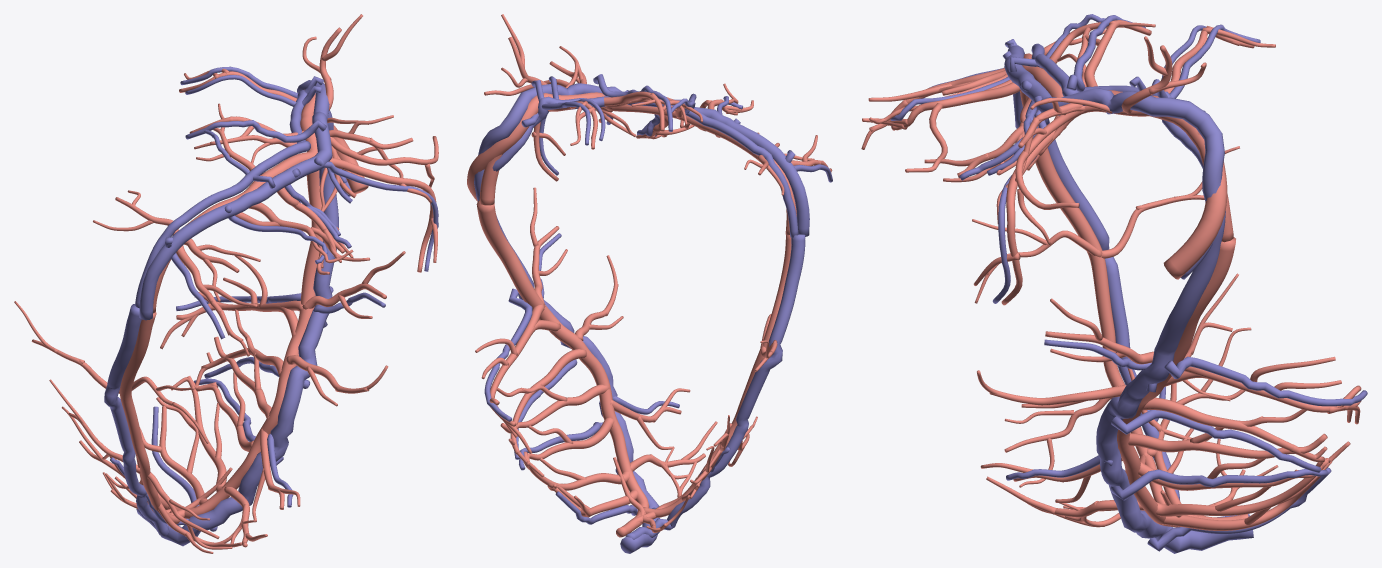
Rendered from vessels_48.glb.
The picture shows the model from 3 angles, left to right: view 1: azimuth 30°, elevation 25°; view 2: azimuth 150°, elevation 25°; view 3: azimuth 270°, elevation 25°; orthographic projection. The views are drawn at different scales.
Parts seen in each view (by area): view 1: Renderer Node; view 2: Renderer Node; view 3: Renderer Node.
Boxes of the visible parts, x1,y1,x2,y2 form: Renderer Node: [14, 14, 438, 553]; Renderer Node: [467, 14, 832, 553]; Renderer Node: [861, 14, 1367, 553].
Size of the model in its own units: 89.5 by 120 by 89.11.
